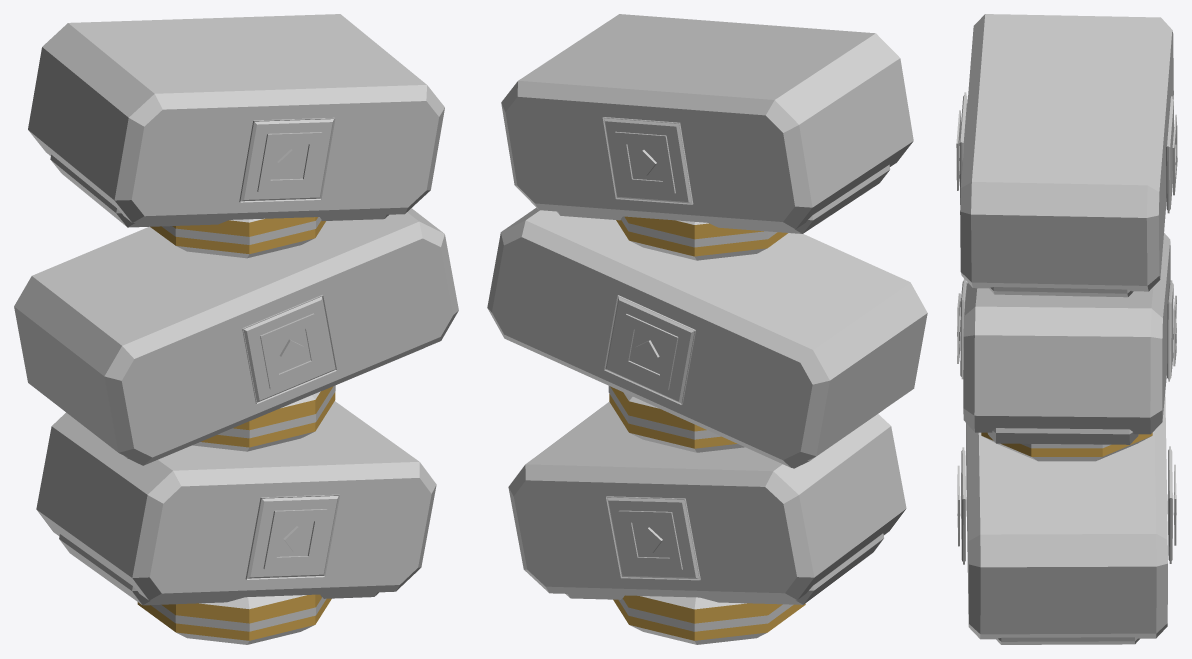
File: wand_motion_15.obj
3 renders of one model, left to right at view 1: azimuth 30°, elevation 25°; view 2: azimuth 150°, elevation 25°; view 3: azimuth 270°, elevation 25°, orthographic. The views are drawn at different scales.
Visible parts, largest first — view 1: chamfered_seal_tablet_2, chamfered_seal_tablet_1, chamfered_seal_tablet_0, tablet_spacer_0, inset_rune_socket_5, inset_rune_socket_3, inset_rune_socket_1, tablet_spacer_2, tablet_spacer_1, seal_shadow_base_0, seal_shadow_base_2, tablet_spacer_dark_seam_0 (+2 smaller); view 2: chamfered_seal_tablet_1, chamfered_seal_tablet_2, chamfered_seal_tablet_0, tablet_spacer_0, inset_rune_socket_0, inset_rune_socket_2, inset_rune_socket_4, tablet_spacer_2, tablet_spacer_1, seal_shadow_base_2, seal_shadow_base_0, tablet_spacer_dark_seam_0 (+2 smaller); view 3: chamfered_seal_tablet_2, chamfered_seal_tablet_0, chamfered_seal_tablet_1, seal_shadow_base_1, tablet_spacer_1, seal_shadow_base_2, seal_shadow_base_0, inset_rune_socket_4, inset_rune_socket_2, inset_rune_socket_0, inset_rune_socket_1, inset_rune_socket_5 (+2 smaller).
Boxes of the visible parts, x1,y1,x2,y2 form: chamfered_seal_tablet_2: (28,14,444,222); chamfered_seal_tablet_1: (14,208,458,464); chamfered_seal_tablet_0: (36,401,436,600); tablet_spacer_0: (137,594,331,644); inset_rune_socket_5: (239,117,335,202); inset_rune_socket_3: (242,295,336,403); inset_rune_socket_1: (245,494,339,579); tablet_spacer_2: (150,217,325,258); tablet_spacer_1: (192,386,335,451); seal_shadow_base_0: (59,534,378,605); seal_shadow_base_2: (50,154,388,227); tablet_spacer_dark_seam_0: (151,597,326,631); chamfered_seal_tablet_1: (487,207,927,467); chamfered_seal_tablet_2: (501,14,913,229); chamfered_seal_tablet_0: (508,402,906,600); tablet_spacer_0: (613,595,805,644); inset_rune_socket_0: (606,496,700,580); inset_rune_socket_2: (604,295,695,404); inset_rune_socket_4: (602,117,693,204); tablet_spacer_2: (616,216,787,260); tablet_spacer_1: (609,386,744,452); seal_shadow_base_2: (556,164,890,233); seal_shadow_base_0: (566,533,883,604); tablet_spacer_dark_seam_0: (618,598,793,631); chamfered_seal_tablet_2: (960,14,1173,291); chamfered_seal_tablet_0: (966,394,1167,639); chamfered_seal_tablet_1: (963,233,1170,434); seal_shadow_base_1: (987,428,1138,444); tablet_spacer_1: (981,432,1152,461); seal_shadow_base_2: (989,287,1133,297); seal_shadow_base_0: (996,637,1139,644); inset_rune_socket_4: (1166,96,1174,213); inset_rune_socket_2: (1167,280,1173,381); inset_rune_socket_0: (1167,446,1172,563); inset_rune_socket_1: (961,447,966,564); inset_rune_socket_5: (959,92,967,204).
Size of the model in its own units: 0.1974 by 0.3093 by 0.1146.
